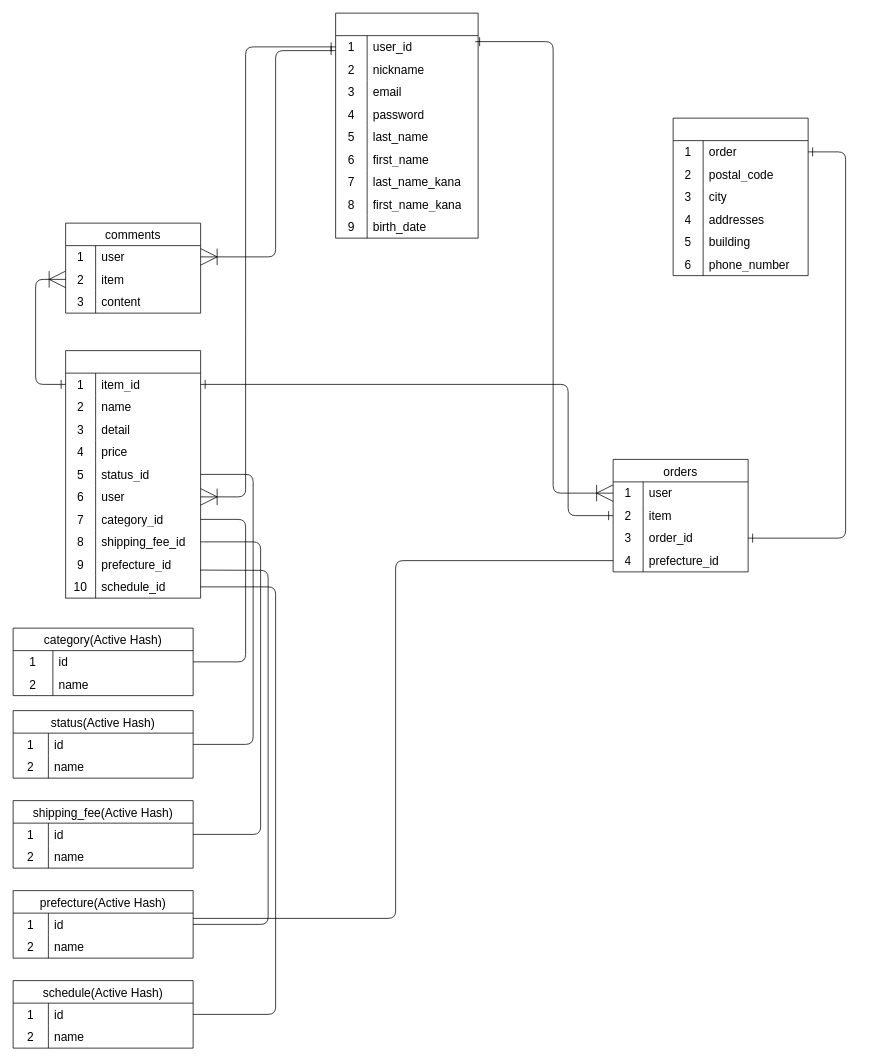
This 869x1061 diagram has some shape labels left out. The box of each missing label's shape, as (x1, y1, x2, y2) in pixels:
delivery_addresses: (672, 117, 808, 276)
items: (65, 350, 201, 598)
users: (335, 12, 478, 238)
